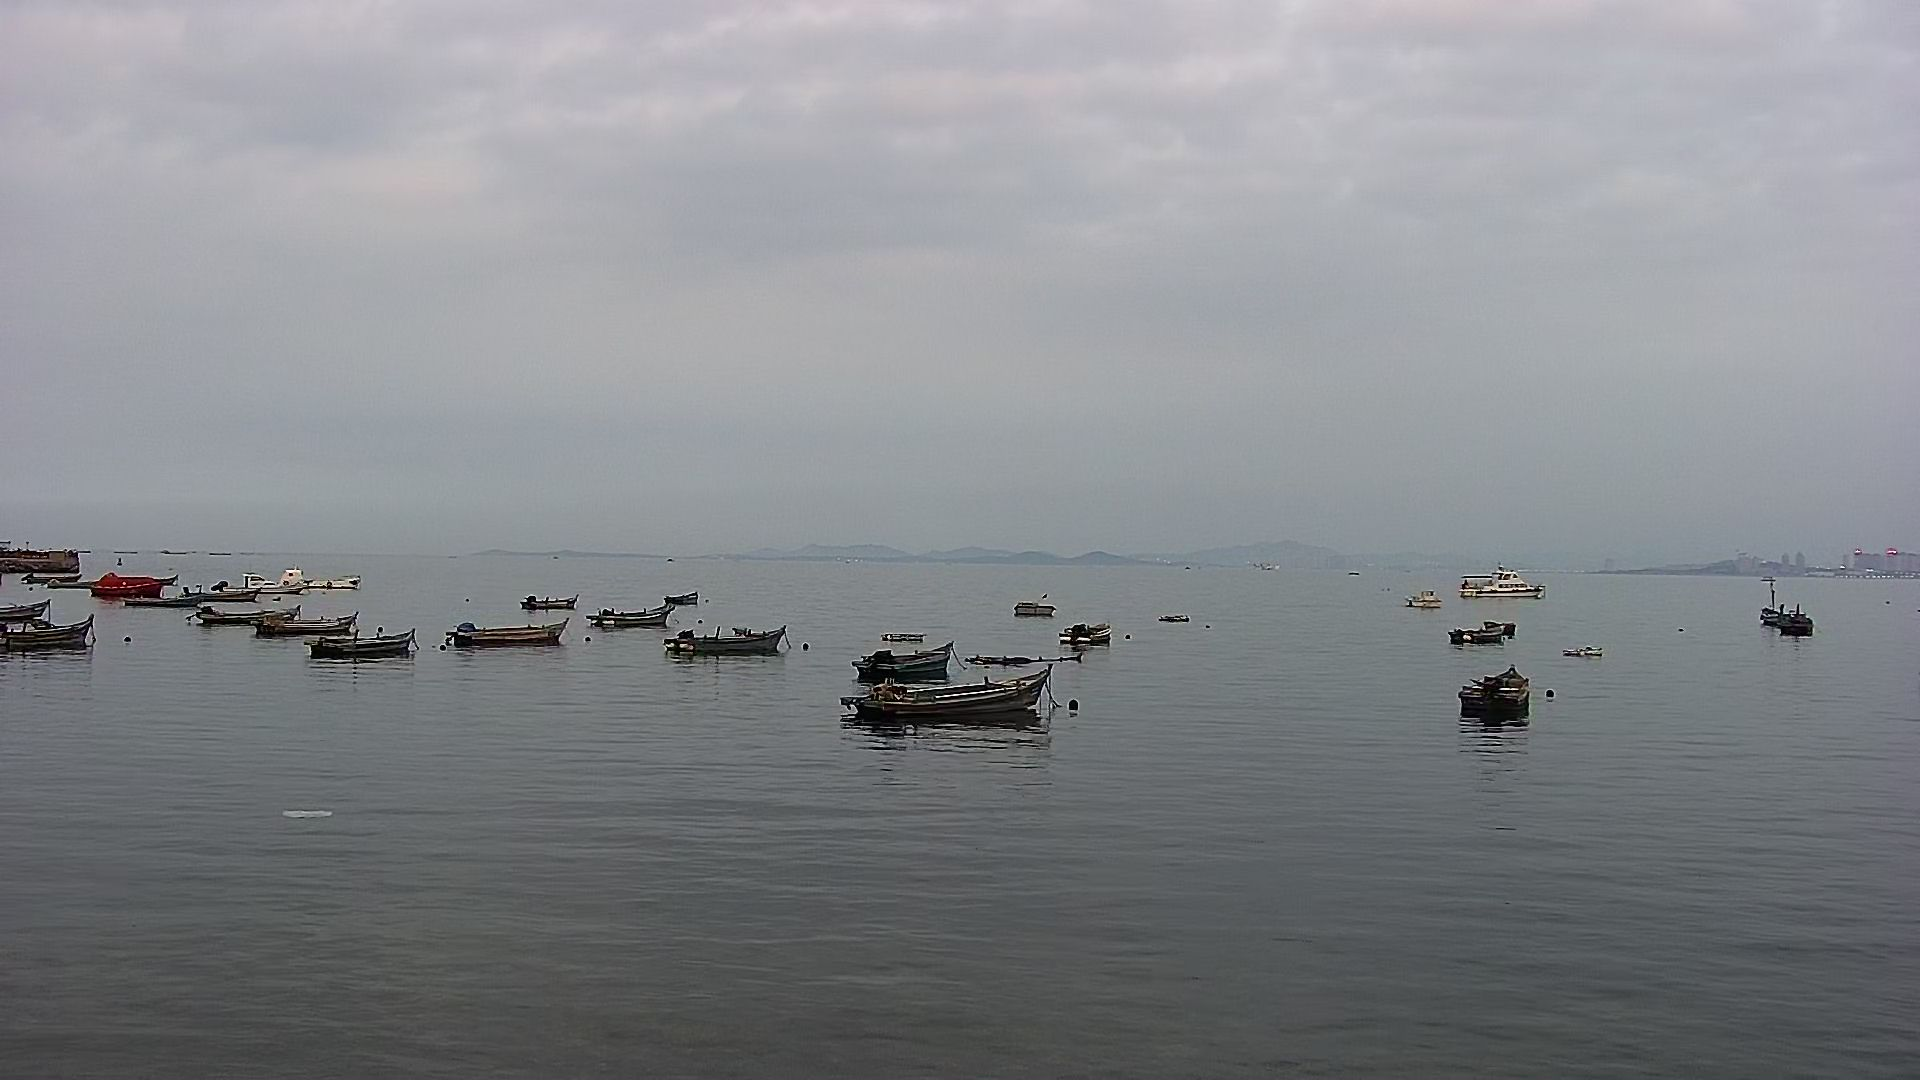boat: (840, 676, 1055, 732), (1457, 661, 1560, 738), (1, 600, 109, 662), (236, 556, 365, 599), (855, 644, 961, 694), (661, 626, 789, 666), (1741, 589, 1818, 651), (435, 615, 563, 651), (79, 566, 165, 603), (1058, 611, 1133, 651), (1447, 612, 1516, 655), (588, 597, 675, 632), (179, 578, 262, 613), (305, 636, 421, 661), (193, 605, 302, 632), (258, 618, 356, 640), (516, 587, 588, 613), (1011, 593, 1062, 624), (1406, 584, 1436, 618)
rubbish: (1560, 634, 1605, 676)
ship: (1447, 562, 1552, 608)
